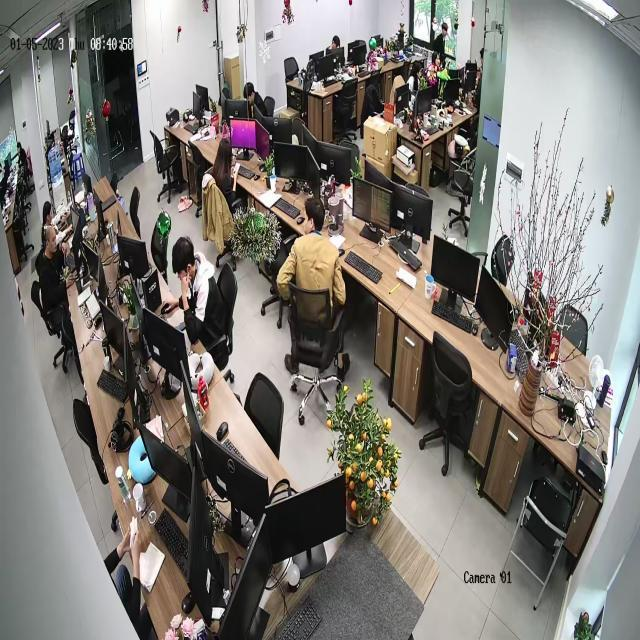person: (160, 235, 233, 375), (276, 197, 346, 331), (36, 225, 78, 327), (209, 133, 246, 206), (39, 192, 74, 246), (243, 81, 273, 119), (432, 16, 452, 65), (404, 57, 427, 96)
